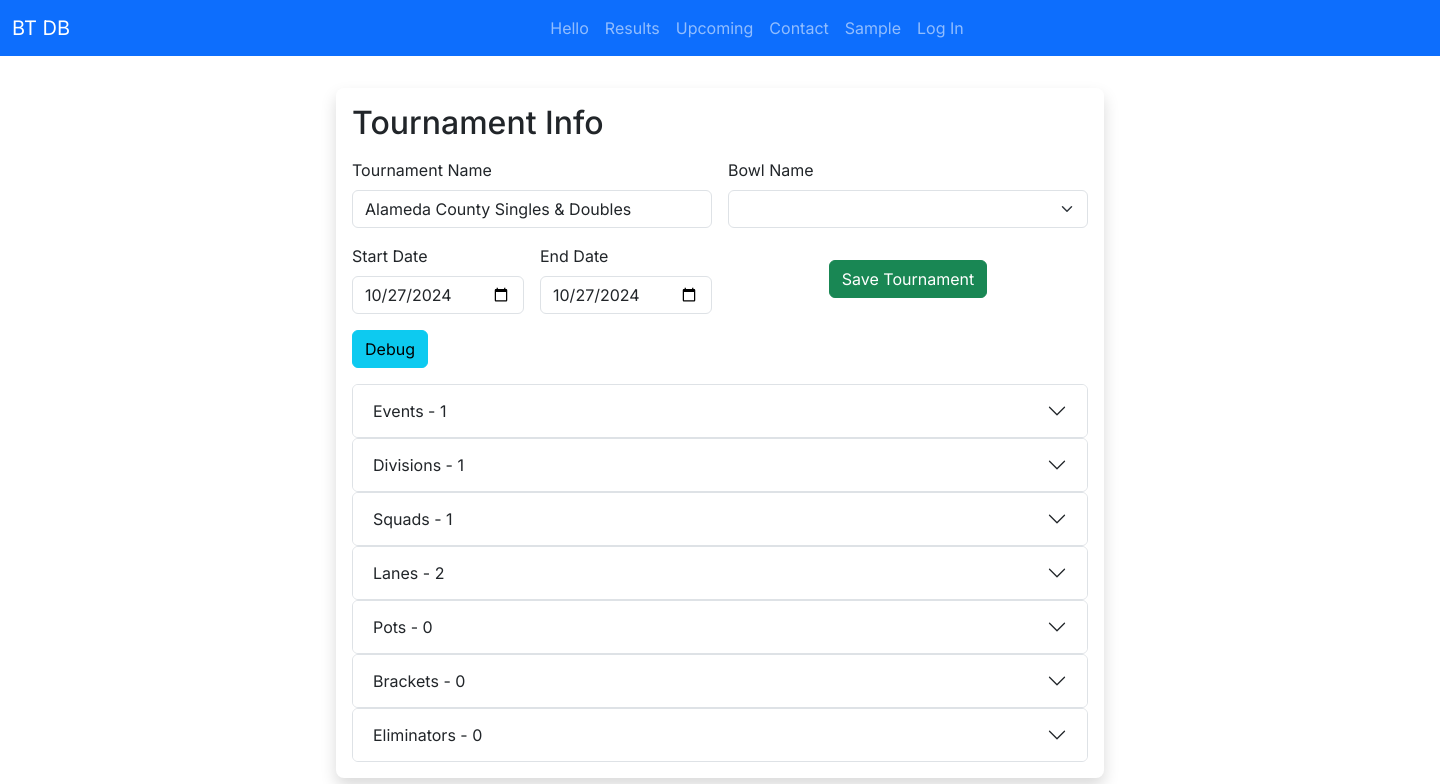
Test case: TmntDataPage - Event Component › enter the added $ value › enter the added $ amount
Click the button "Events - 1" at (406, 411), box [353,385,1087,437]
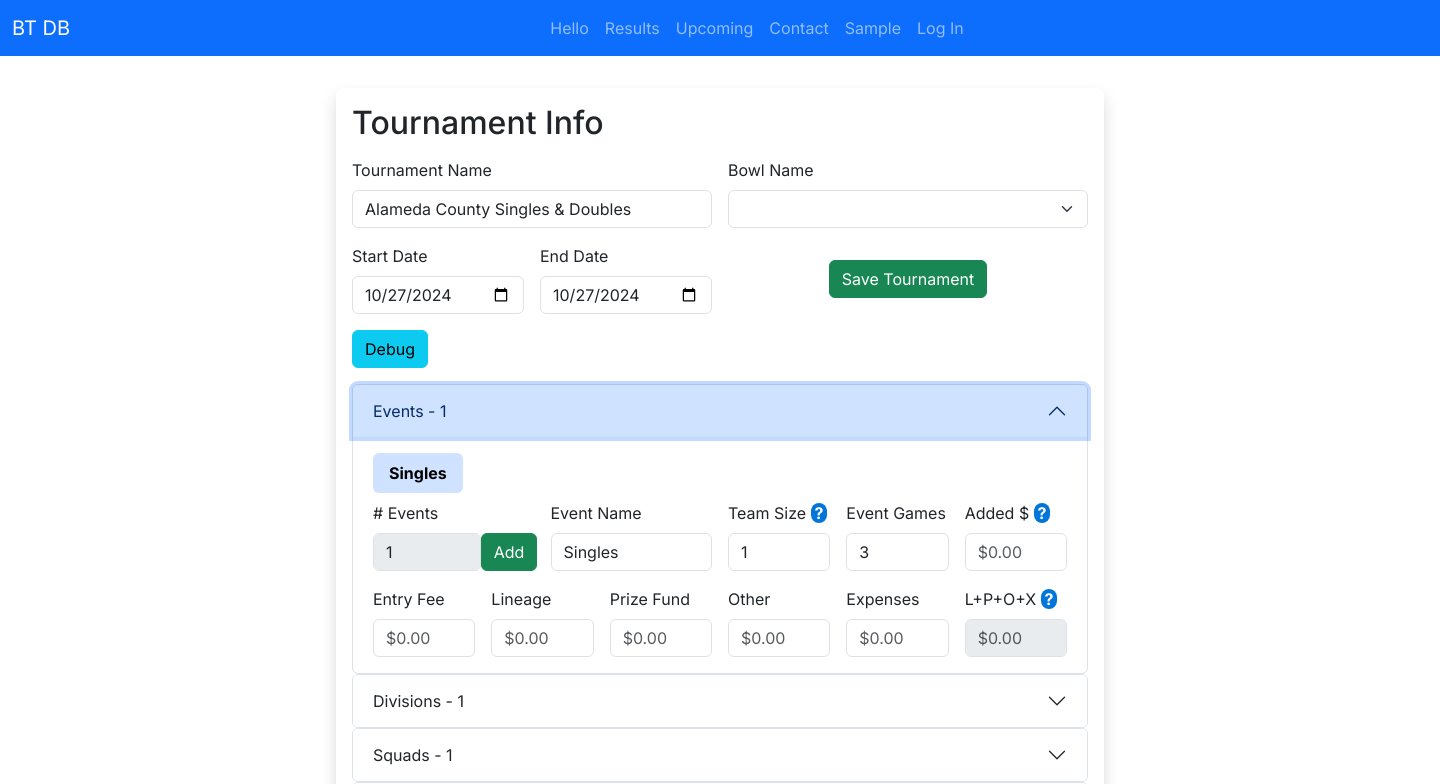
Note: enter less than min value - will not accept negative sign, enter value w/o "-"
Type "100" into the field labelled "Added $ ?" at (1016, 552), box [965,533,1067,571]
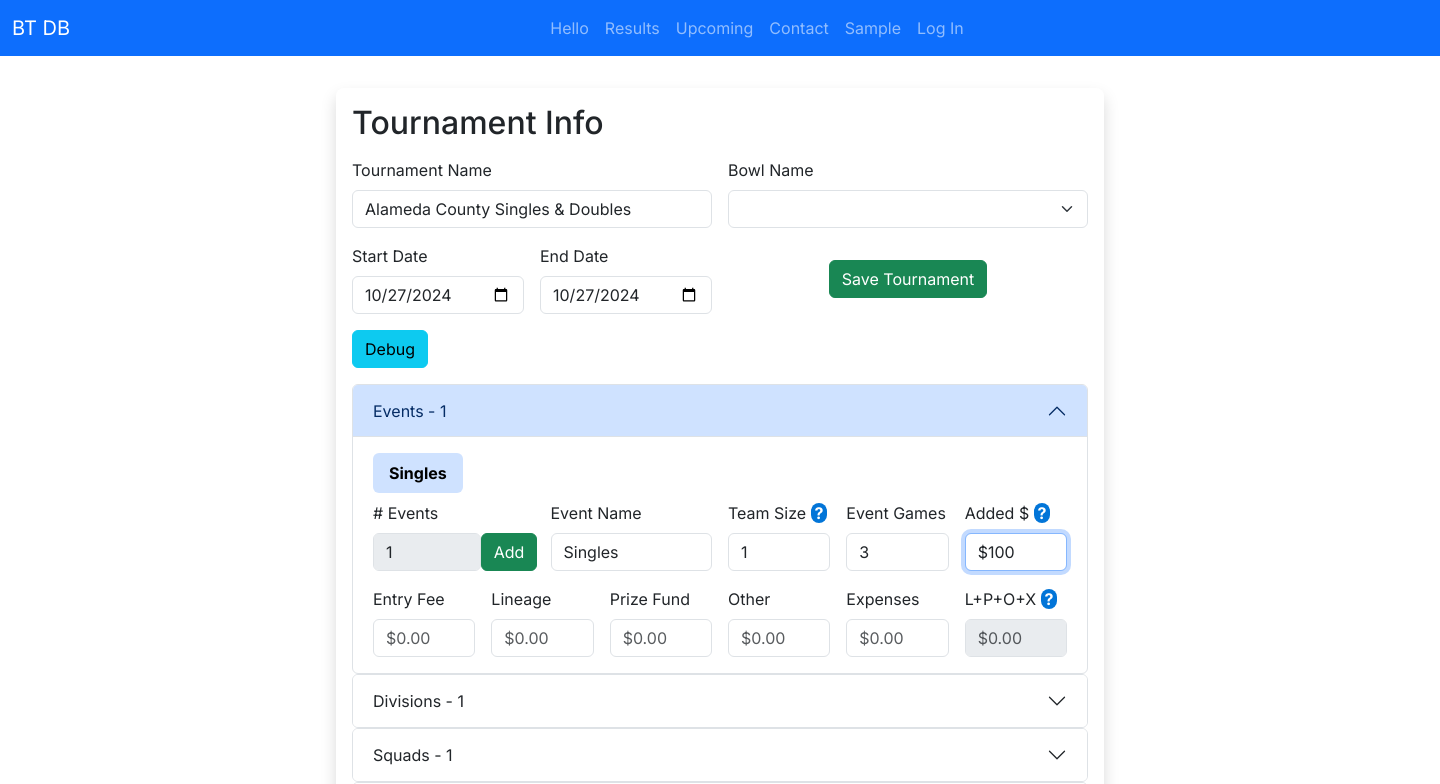
Result: the field labelled "Added $ ?" holds "$100" at [965,533,1067,571]
